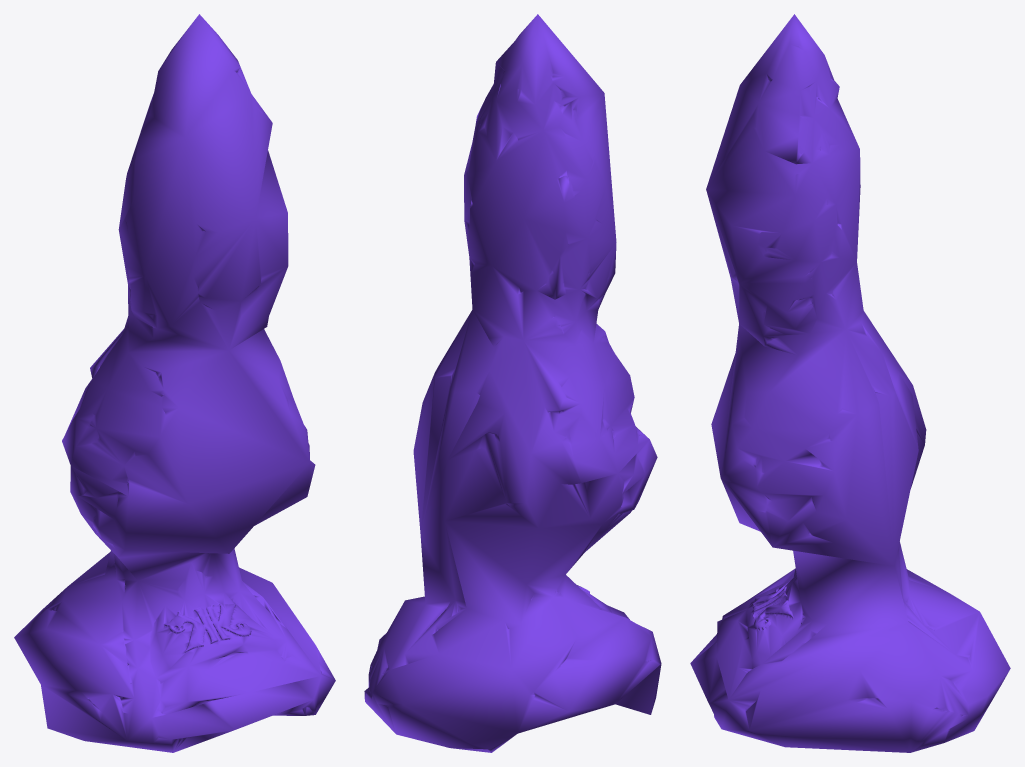
The model's file is medium-suction-ar.glb.
3 renders of one model, left to right at view 1: azimuth 30°, elevation 25°; view 2: azimuth 150°, elevation 25°; view 3: azimuth 270°, elevation 25°, orthographic. The views are drawn at different scales.
Bounding box in the file's own units: 0.0834 × 0.2208 × 0.093.
